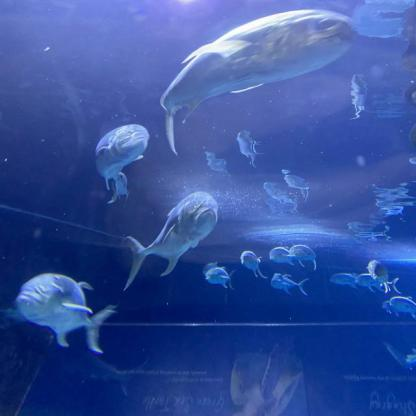fish: (159, 10, 356, 155), (123, 191, 218, 290), (16, 273, 116, 354), (95, 124, 150, 204), (287, 245, 317, 272), (270, 274, 308, 295), (240, 250, 264, 278), (357, 277, 400, 292), (205, 266, 234, 288), (369, 260, 388, 292), (390, 297, 415, 320), (382, 300, 416, 316), (330, 273, 366, 288), (270, 248, 294, 263)
